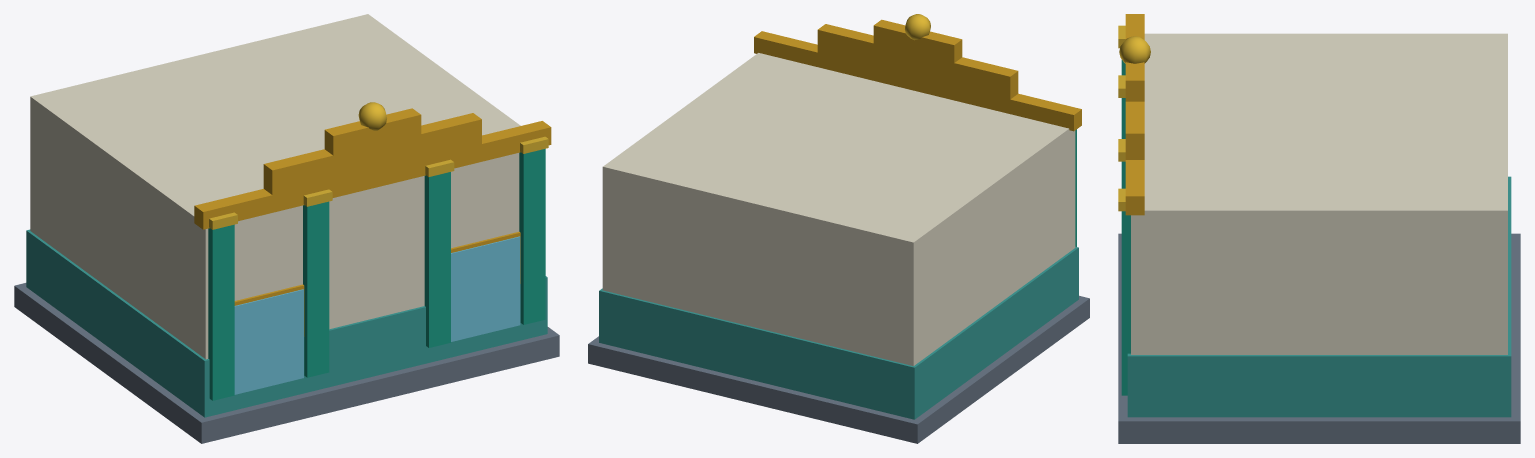
Rendered from commercial-shop-deco.glb.
The picture shows the model from 3 angles, left to right: view 1: azimuth 30°, elevation 25°; view 2: azimuth 150°, elevation 25°; view 3: azimuth 270°, elevation 25°; orthographic projection. The views are drawn at different scales.
Visible parts, largest first — view 1: Root; view 2: Root; view 3: Root.
Part boxes in pixels (x1=…): Root: x1=14, y1=14, x2=559, y2=443; Root: x1=588, y1=14, x2=1089, y2=443; Root: x1=1118, y1=14, x2=1520, y2=443.
Bounding box in the file's own units: 10.6 × 8.23 × 9.6.
